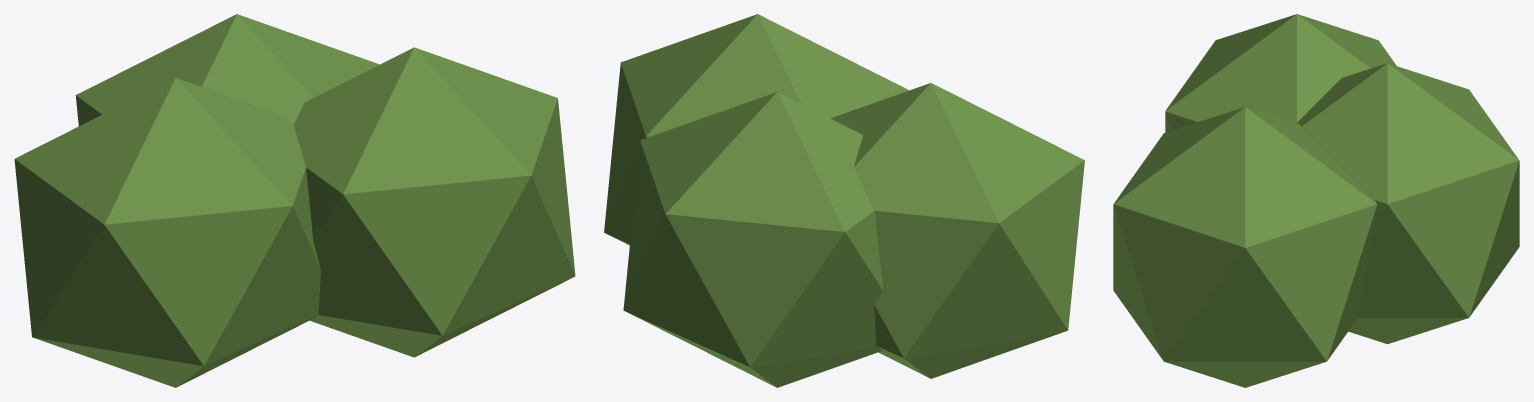
File: bush_a.glb
3 renders of one model, left to right at view 1: azimuth 30°, elevation 25°; view 2: azimuth 150°, elevation 25°; view 3: azimuth 270°, elevation 25°, orthographic. The views are drawn at different scales.
Visible parts, largest first — view 1: bush_a; view 2: bush_a; view 3: bush_a.
Part boxes in pixels (left/top/right/bottom): bush_a: left=14, top=14, right=575, bottom=387; bush_a: left=604, top=14, right=1084, bottom=387; bush_a: left=1113, top=14, right=1519, bottom=387.
Size of the model in its own units: 2.01 by 1.2 by 1.57.
